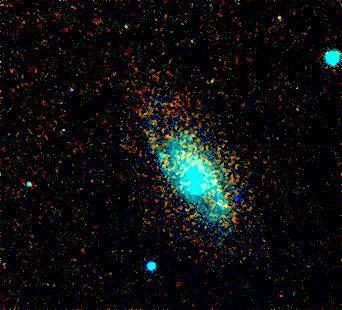star: (224, 181, 254, 211)
